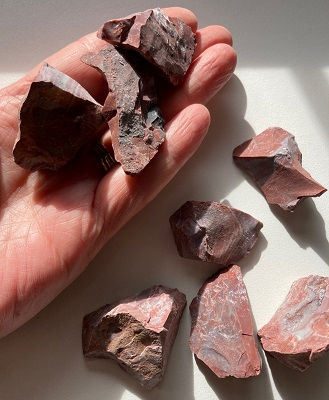Red_Jasper: (80, 274, 188, 391), (187, 262, 264, 390)
